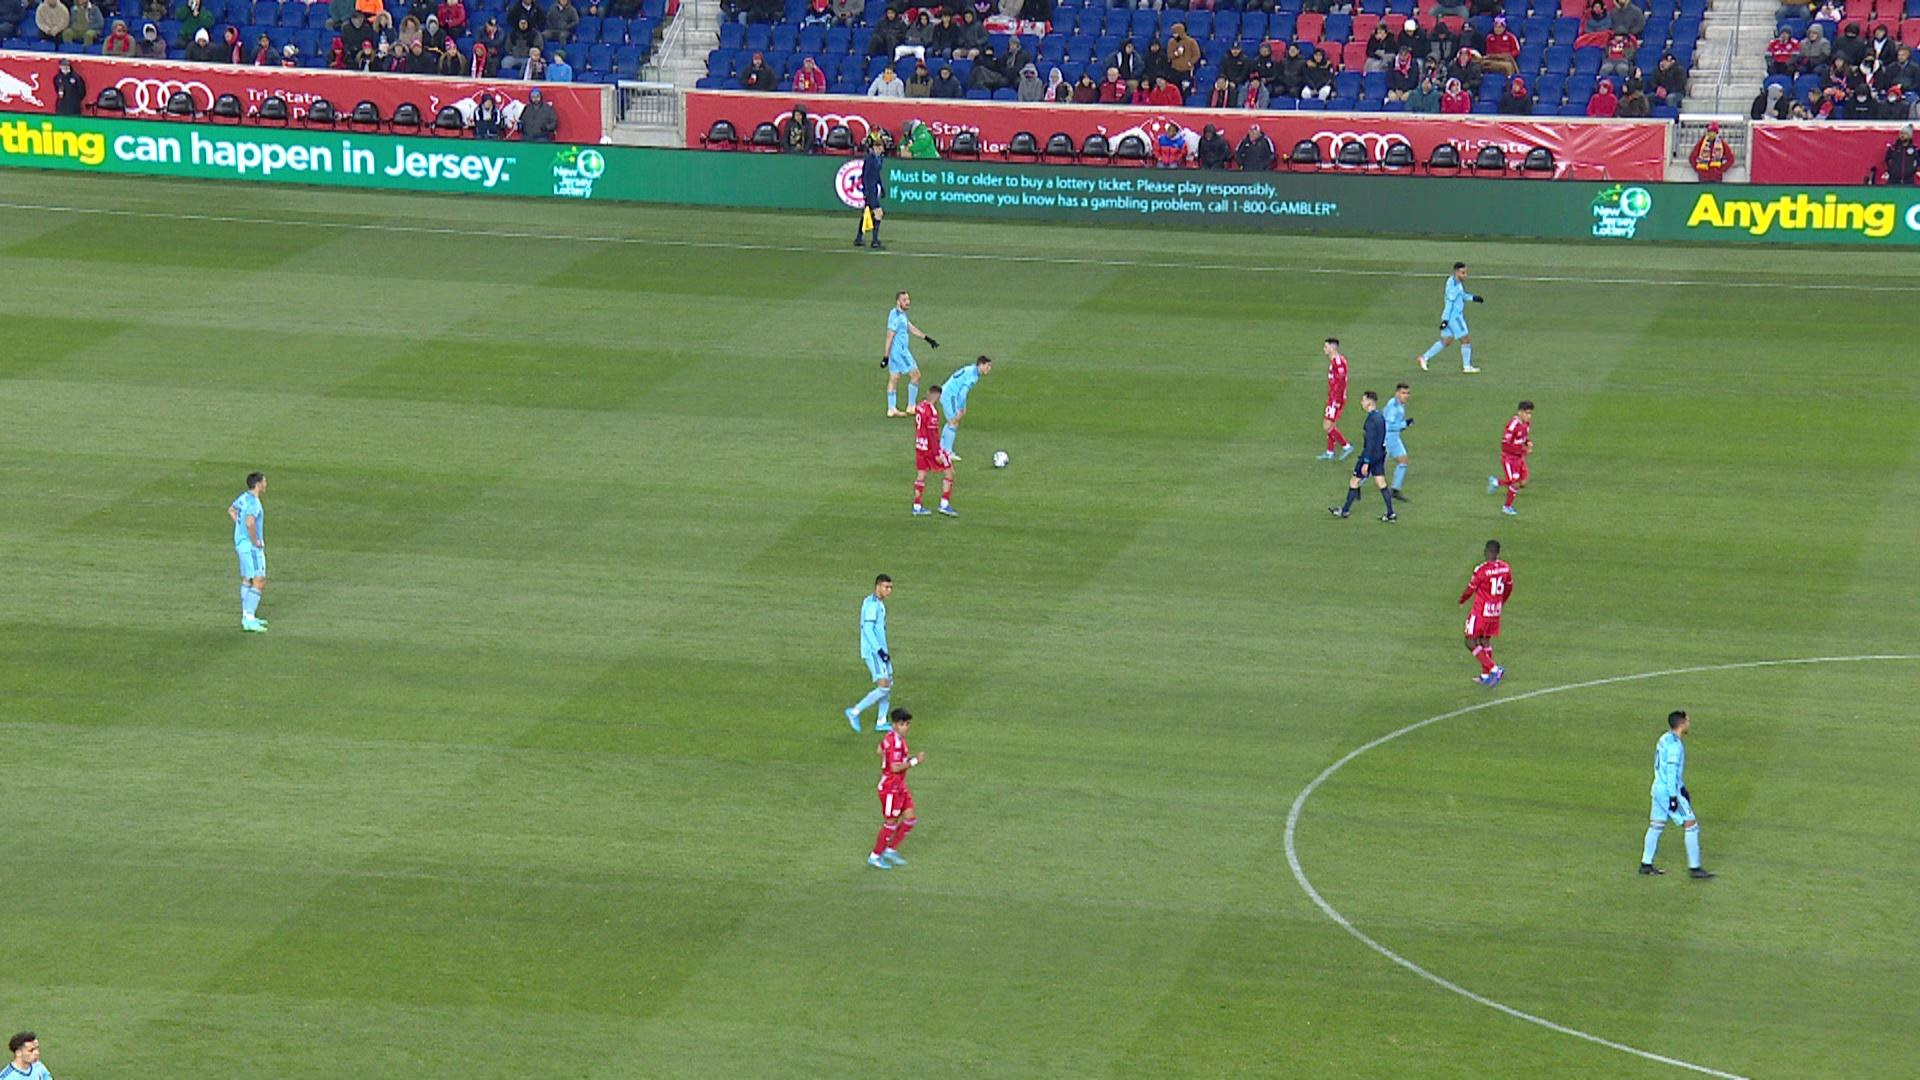football: (993, 450, 1009, 468)
